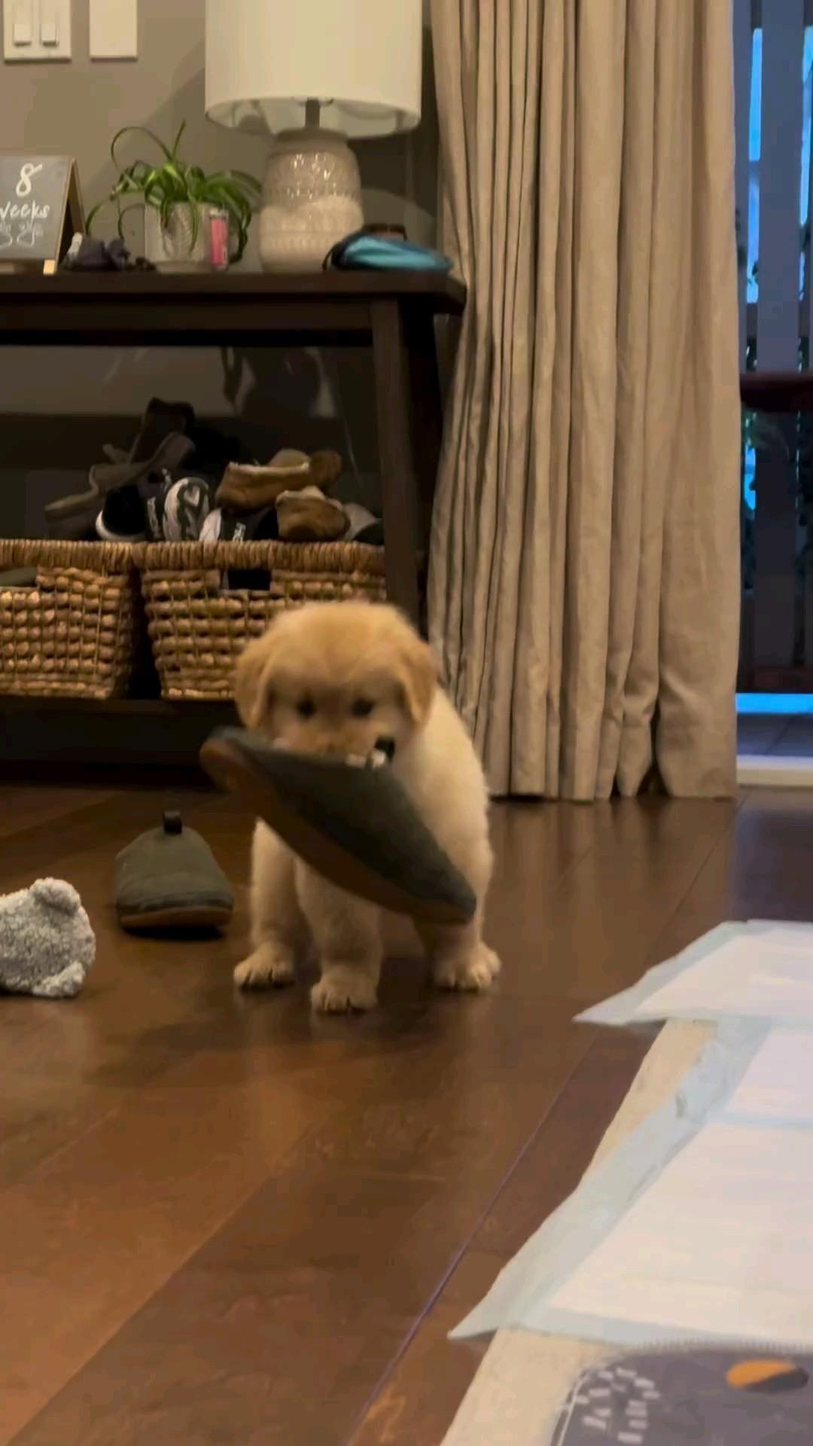puppy-dog: (230, 597, 504, 1018)
